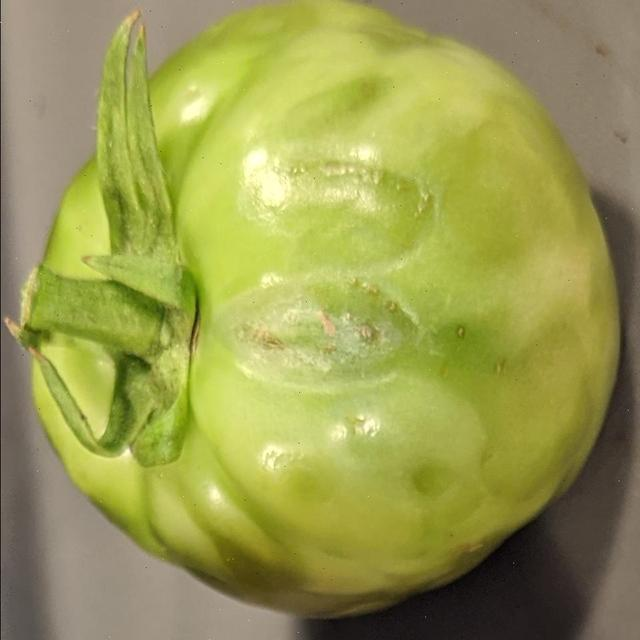Spotted wilt Virus Fruit: (7, 124, 43, 426)
